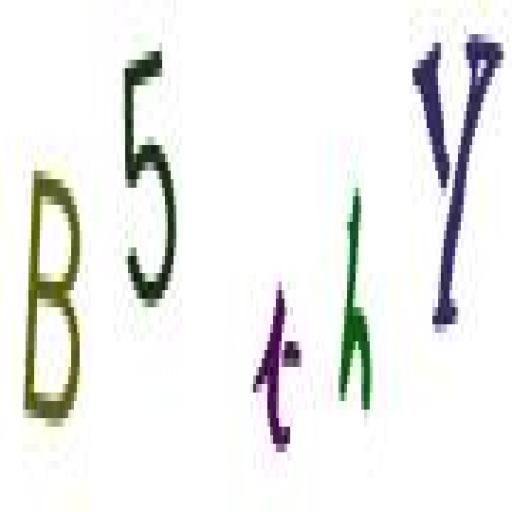5: (115, 24, 182, 348)
B: (20, 142, 91, 452)
Y: (411, 17, 511, 349)
h: (334, 151, 378, 428)
t: (250, 266, 310, 476)
